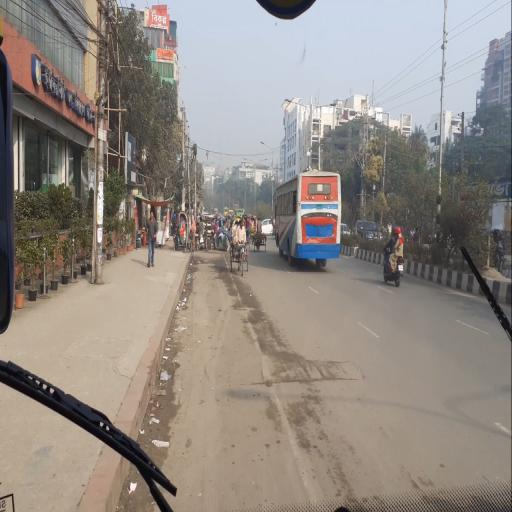bus: (275, 169, 342, 268)
car: (253, 232, 267, 253)
minibus: (235, 208, 245, 217), (224, 207, 230, 217), (229, 208, 234, 216), (213, 208, 219, 214)
motorbike: (382, 227, 406, 289)
rickshaw: (484, 229, 511, 278), (174, 210, 199, 260), (230, 215, 250, 277), (245, 215, 251, 246), (270, 213, 277, 239), (218, 216, 228, 232)
suv: (353, 218, 385, 244)
